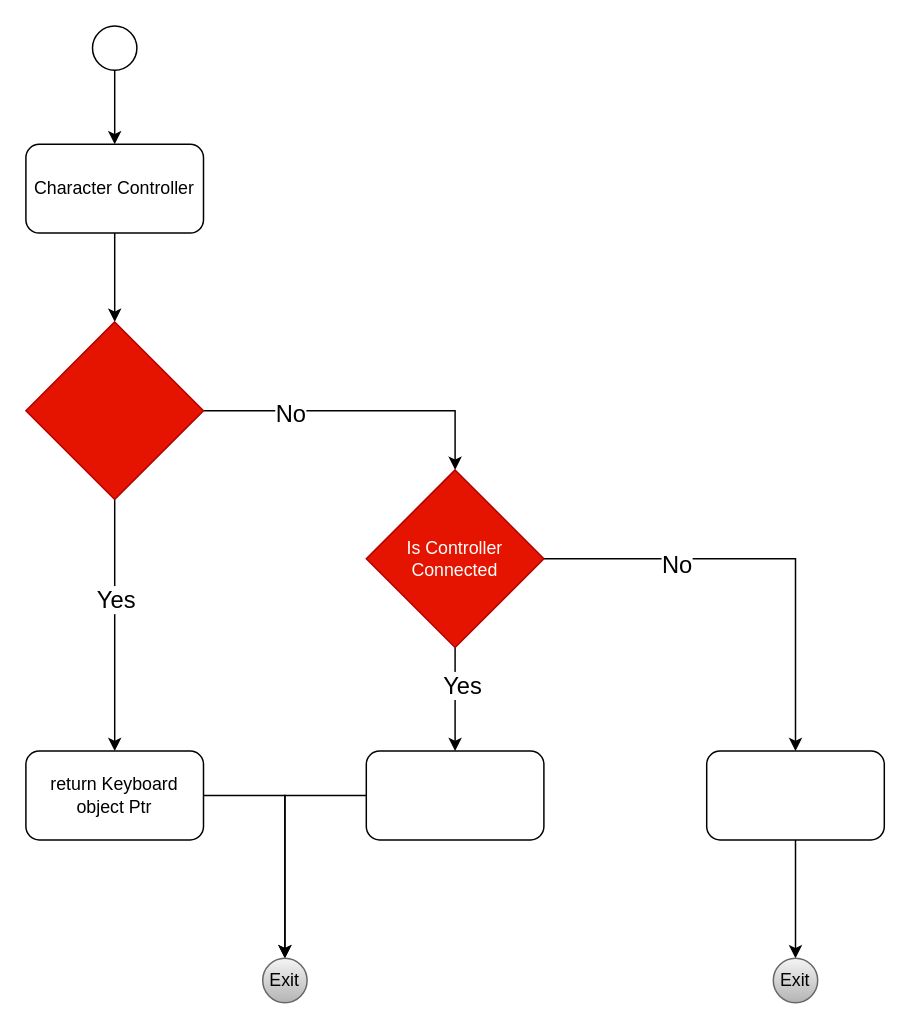
Some shapes in this 910 by 1029 pixel diagram are drawn without their labels. The centre of each missing label's shape, as x and y in pixels:
"Is keyboard connected" goes at point (114, 410).
"return Controller object Ptr" goes at point (454, 795).
"return Null Ptr" goes at point (794, 795).
